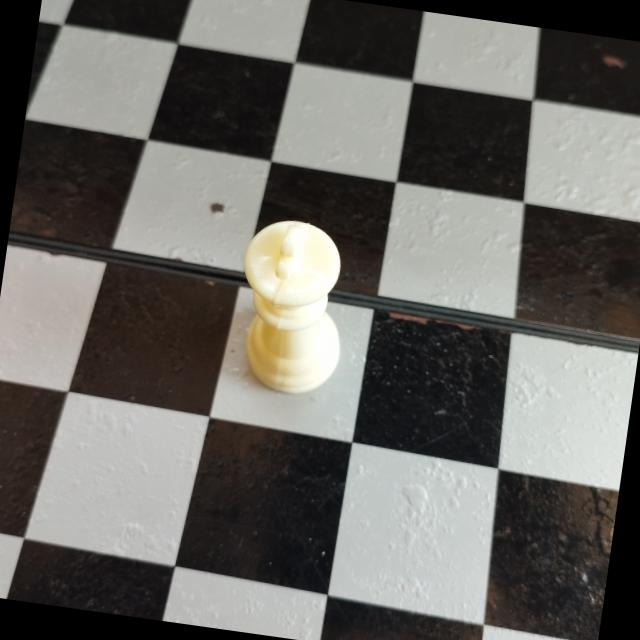White King: (216, 208, 370, 417)
